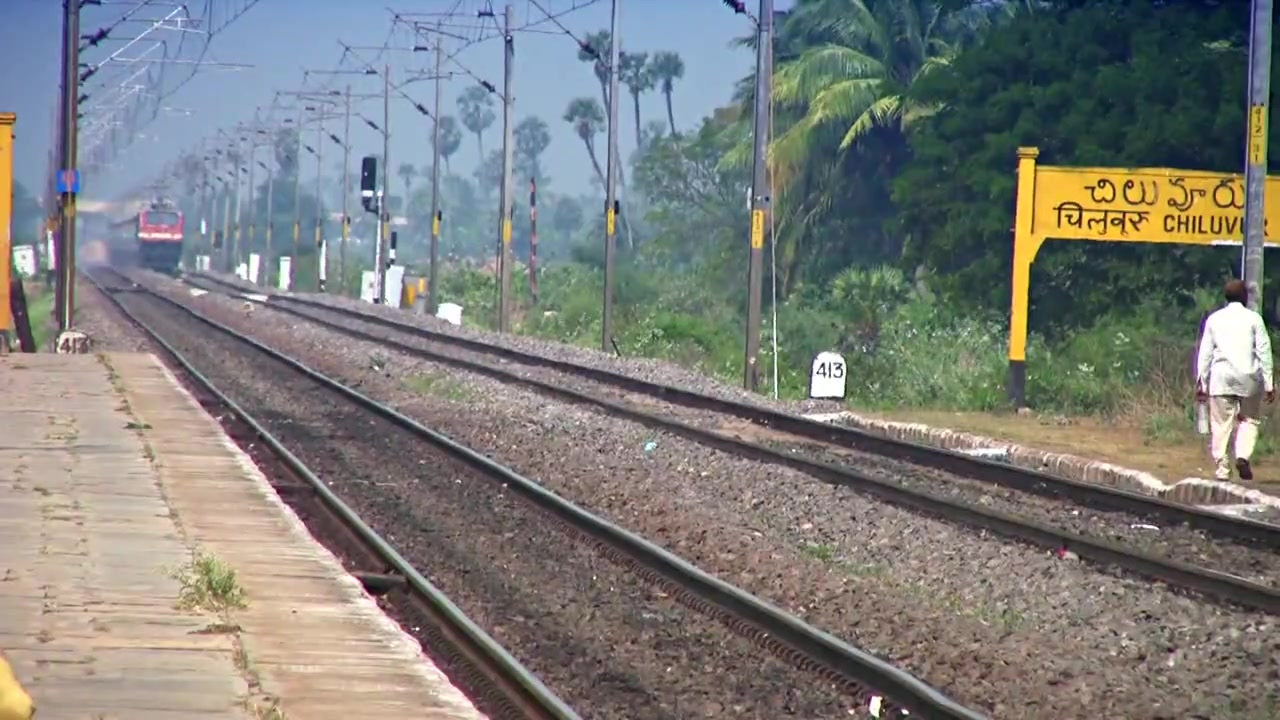train: (99, 201, 185, 274)
